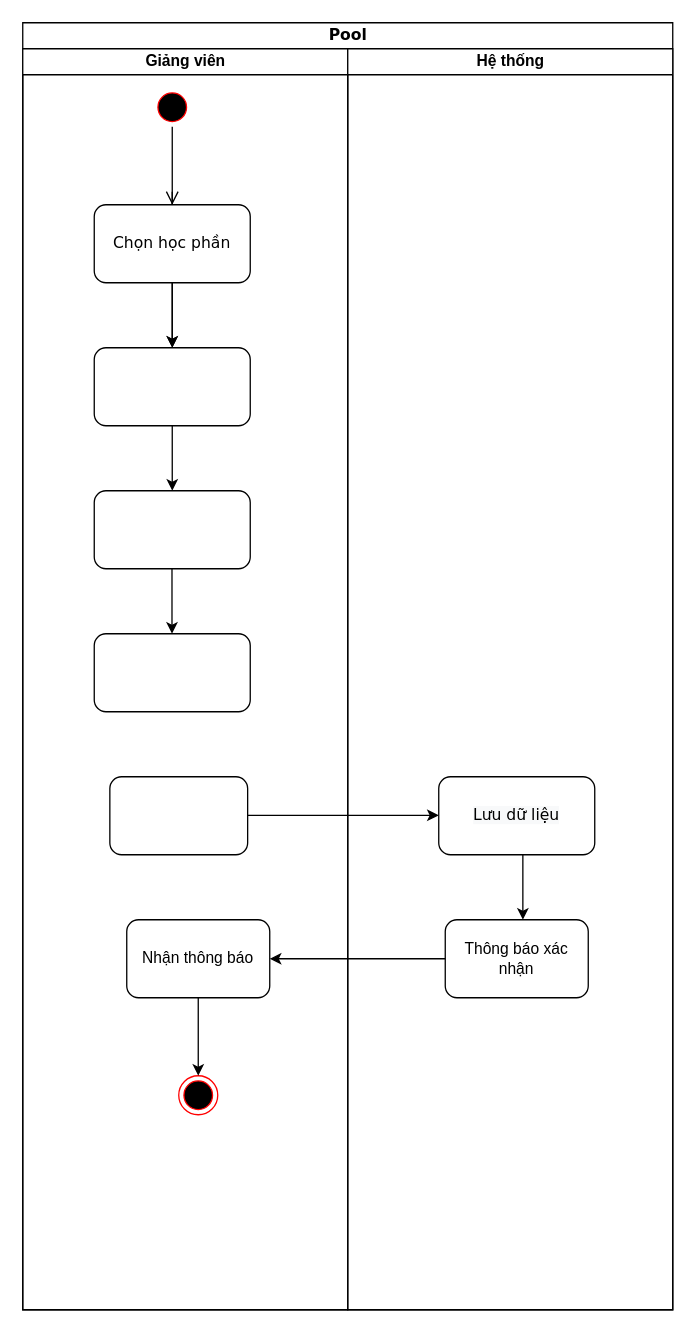
This 696x1333 diagram has some shape labels left out. The shapes that lost their labels are listed below. From the top down, each one's centre as x and y in pixels, then its label:
At (171,386): "Click cho điểm và đánh giá".
At (171,529): "Chọn đề tài".
At (171,672): "Chọn sinh viên".
At (178,815): "Cho điểm, đánh giá".
